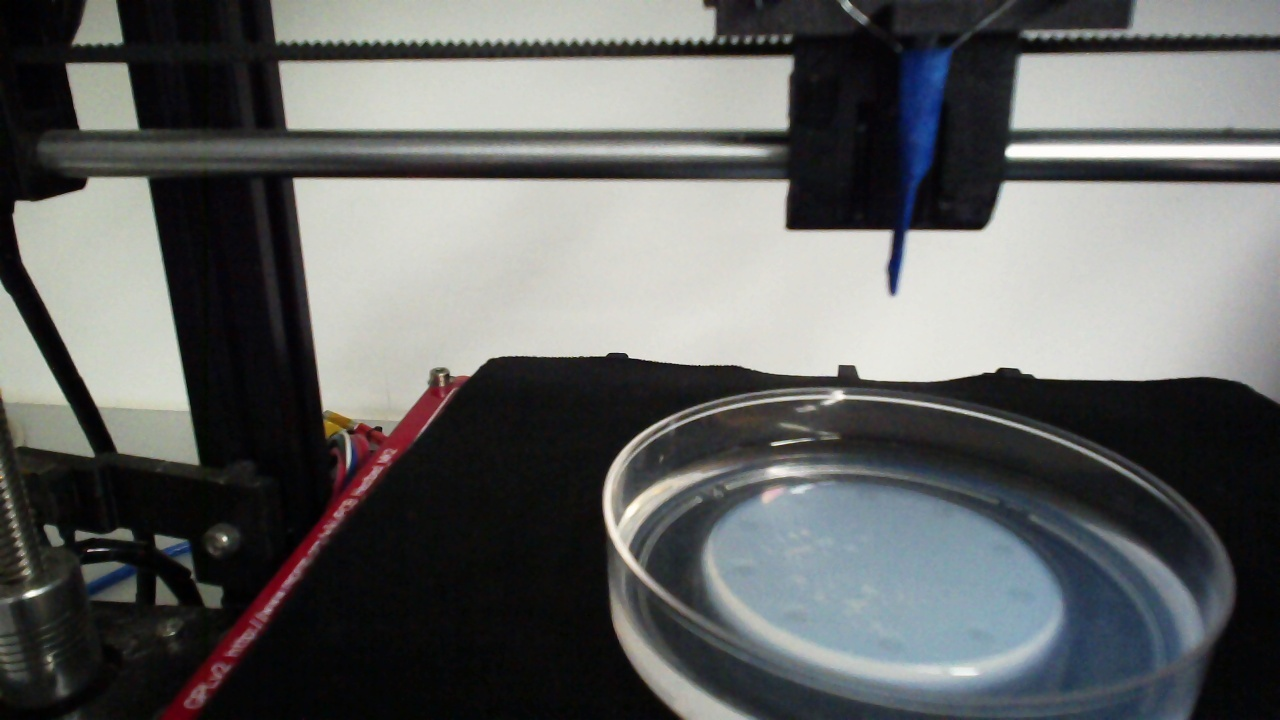groove: (965, 625, 999, 648), (776, 604, 811, 625), (727, 559, 759, 580), (874, 633, 906, 654), (853, 483, 882, 504), (1007, 584, 1036, 604), (932, 502, 958, 523), (987, 538, 1014, 557), (735, 513, 760, 532)
needle: (889, 53, 949, 294)
